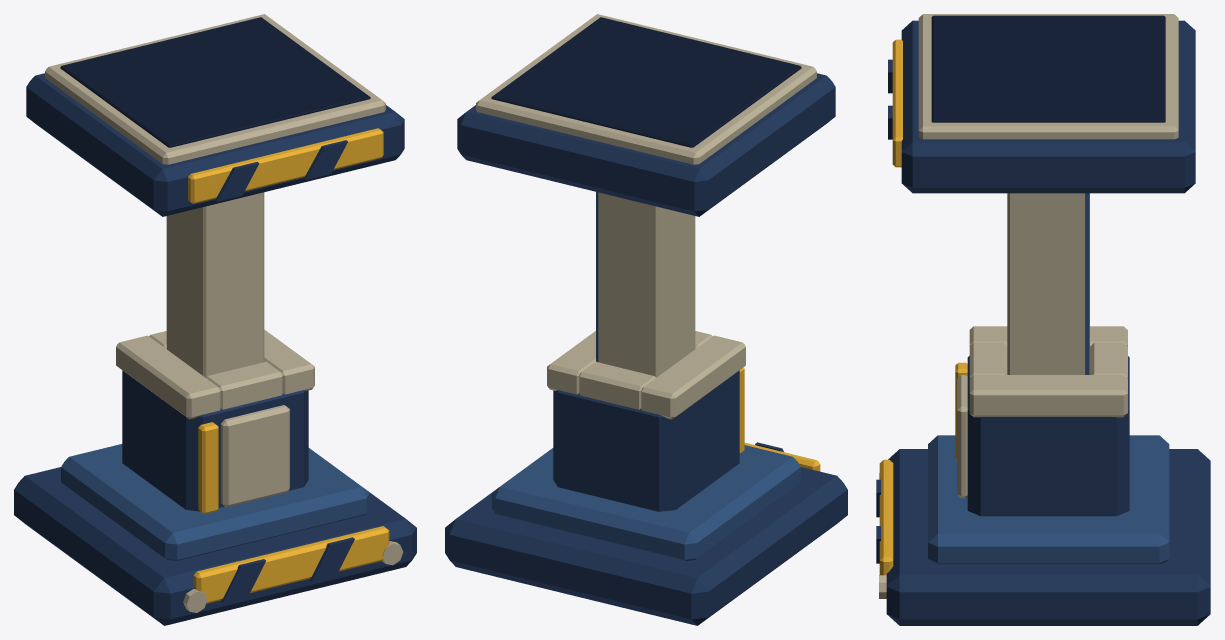
The model's file is assembly_lift.glb.
The picture shows the model from 3 angles, left to right: view 1: azimuth 30°, elevation 25°; view 2: azimuth 150°, elevation 25°; view 3: azimuth 270°, elevation 25°; orthographic projection. The views are drawn at different scales.
Visible parts, largest first — view 1: BaseHousing, TopSaddleMesh, PistonRod; view 2: BaseHousing, TopSaddleMesh, PistonRod; view 3: BaseHousing, TopSaddleMesh, PistonRod.
Boxes of the visible parts, x1,y1,x2,y2 form: BaseHousing: (14, 329, 416, 625); TopSaddleMesh: (26, 14, 404, 216); PistonRod: (166, 192, 264, 377); BaseHousing: (445, 331, 847, 625); TopSaddleMesh: (457, 14, 835, 216); PistonRod: (596, 192, 695, 377); BaseHousing: (876, 326, 1210, 625); TopSaddleMesh: (888, 14, 1195, 193); PistonRod: (1007, 193, 1089, 374).
Bounding box in the file's own units: 0.86 × 1.45 × 0.8875.
